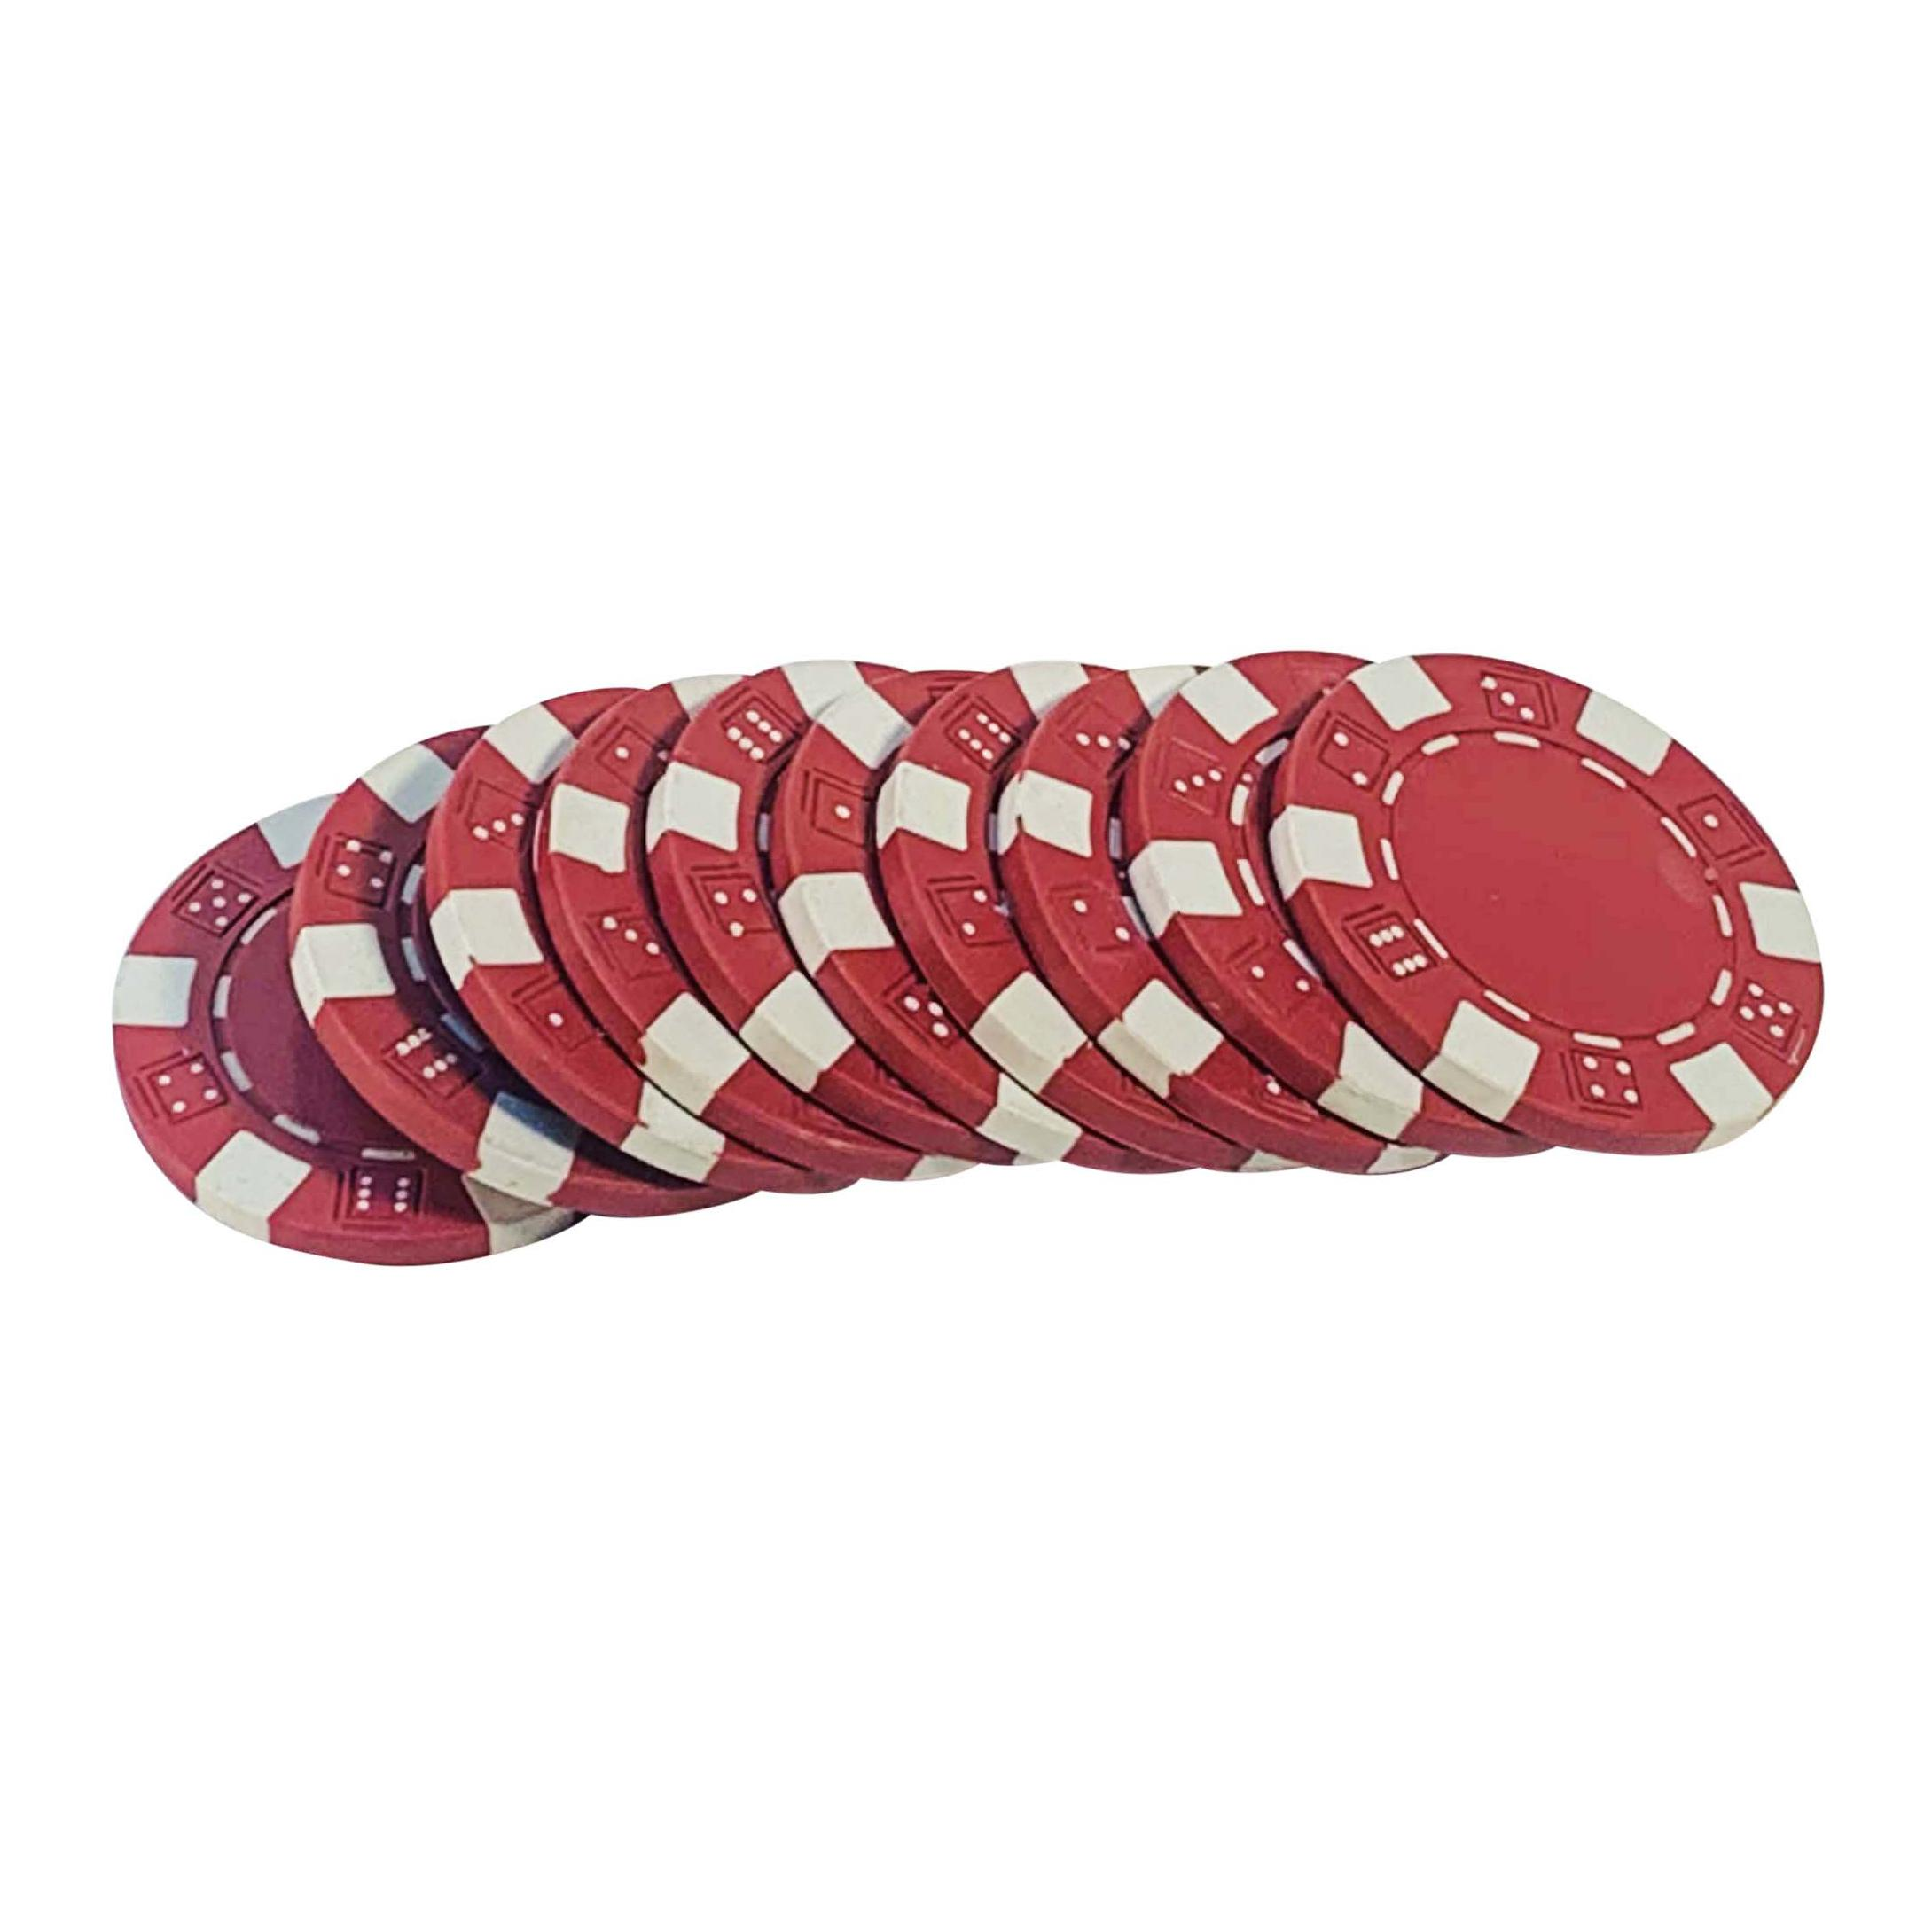chip-red: (1272, 656, 1822, 1155), (113, 800, 577, 1263), (1000, 669, 1422, 1169), (1120, 653, 1529, 1169), (426, 686, 816, 1189), (290, 729, 679, 1215), (536, 676, 893, 1177), (876, 660, 1159, 1146), (646, 660, 913, 1143), (770, 672, 1026, 1145)
